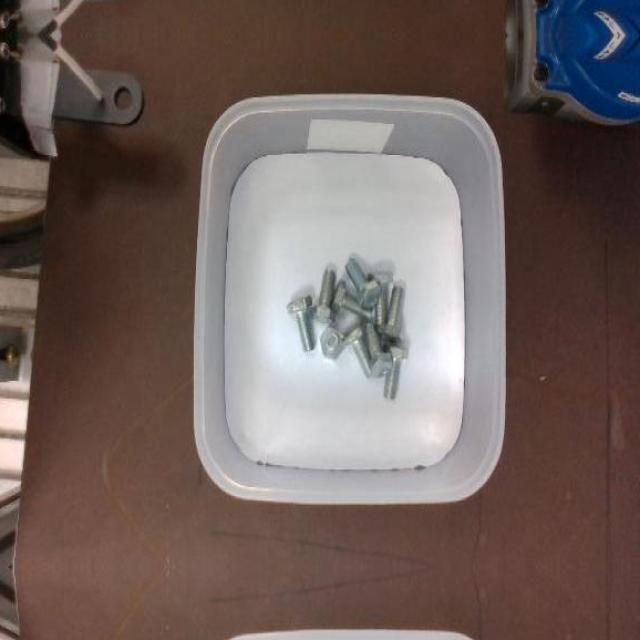screw: (343, 256, 380, 309), (365, 322, 393, 378), (287, 296, 314, 352), (310, 269, 336, 324), (378, 284, 403, 340), (320, 326, 345, 360)
